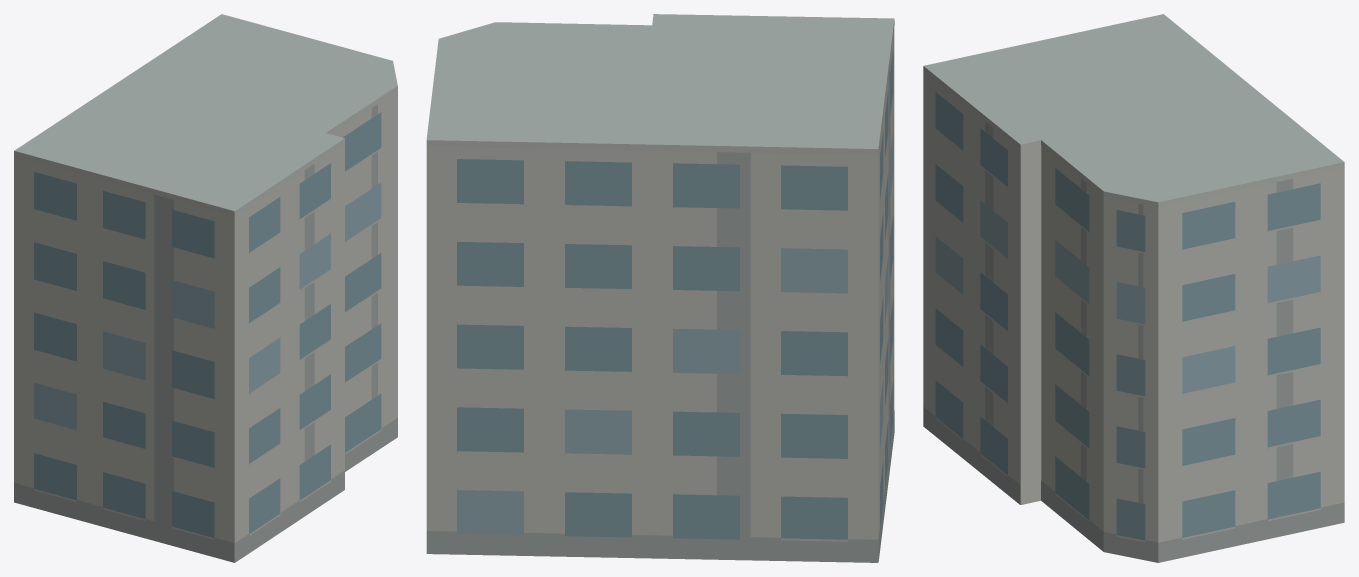
File: survey-upis-32836561.glb
3 renders of one model, left to right at view 1: azimuth 30°, elevation 25°; view 2: azimuth 150°, elevation 25°; view 3: azimuth 270°, elevation 25°, orthographic. The views are drawn at different scales.
Visible parts, largest first — view 1: survey-upis-32836561.tmp; view 2: survey-upis-32836561.tmp; view 3: survey-upis-32836561.tmp.
Boxes of the visible parts, box(x1,y1,x2,y2) form: survey-upis-32836561.tmp: box(14, 14, 397, 562); survey-upis-32836561.tmp: box(426, 14, 894, 562); survey-upis-32836561.tmp: box(923, 14, 1344, 562).
Size of the model in its own units: 18.15 by 16.2 by 17.16.
